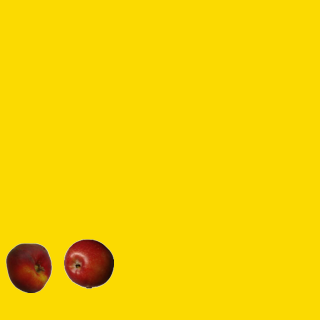Apple Braeburn: (63, 238, 113, 288)
Nectarine Flat: (3, 242, 53, 292)
